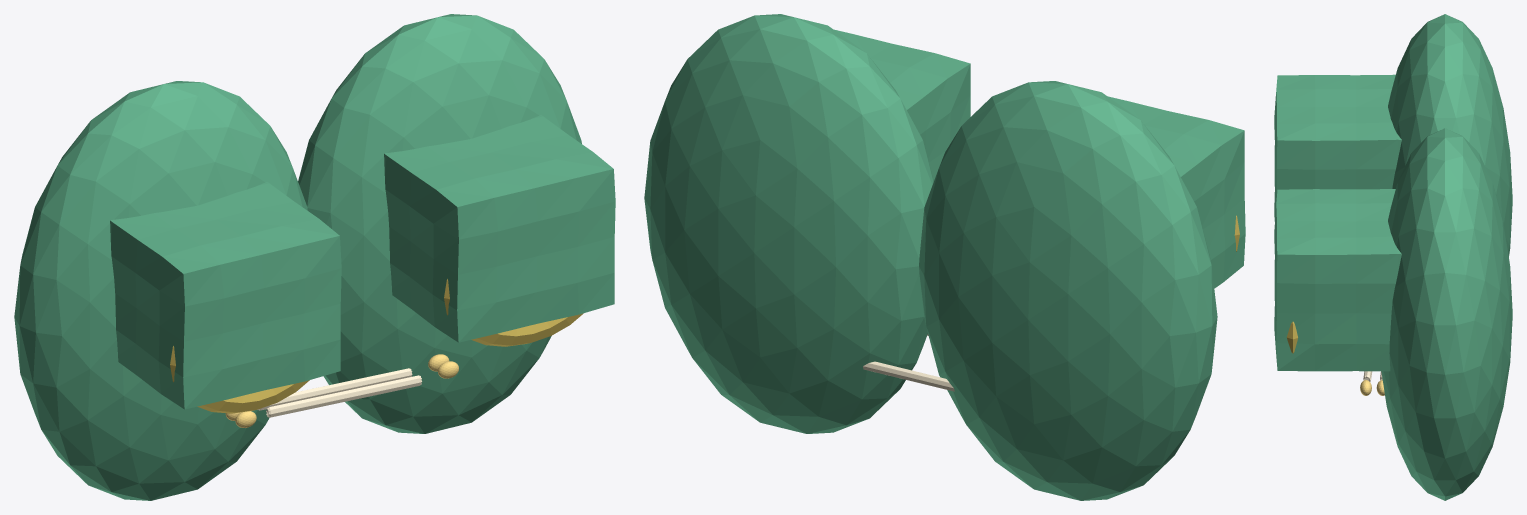
The model's file is botas-aventurero.glb.
3 renders of one model, left to right at view 1: azimuth 30°, elevation 25°; view 2: azimuth 150°, elevation 25°; view 3: azimuth 270°, elevation 25°, orthographic. The views are drawn at different scales.
Parts seen in each view (by area): view 1: botas-aventurero_00, botas-aventurero_03, botas-aventurero_04, botas-aventurero_01, Detalle_05, botas-aventurero_02, botas-aventurero_05, Detalle_04; view 2: botas-aventurero_00, botas-aventurero_03, botas-aventurero_01, botas-aventurero_04, Detalle_11; view 3: botas-aventurero_03, botas-aventurero_04, botas-aventurero_01, botas-aventurero_00.
Boxes of the visible parts, x1,y1,x2,y2 form: botas-aventurero_00: (14, 81, 307, 500); botas-aventurero_03: (298, 14, 581, 433); botas-aventurero_04: (384, 115, 615, 342); botas-aventurero_01: (110, 182, 341, 409); Detalle_05: (266, 375, 422, 417); botas-aventurero_02: (170, 346, 309, 413); botas-aventurero_05: (444, 279, 583, 346); Detalle_04: (257, 368, 412, 410); botas-aventurero_00: (919, 81, 1217, 500); botas-aventurero_03: (644, 14, 933, 433); botas-aventurero_01: (1108, 96, 1245, 288); botas-aventurero_04: (834, 29, 970, 180); Detalle_11: (863, 361, 954, 391); botas-aventurero_03: (1381, 128, 1512, 500); botas-aventurero_04: (1274, 189, 1401, 371); botas-aventurero_01: (1274, 74, 1401, 221); botas-aventurero_00: (1388, 14, 1512, 256).
Bounding box in the file's own units: 1.08 × 0.7567 × 0.4631.
